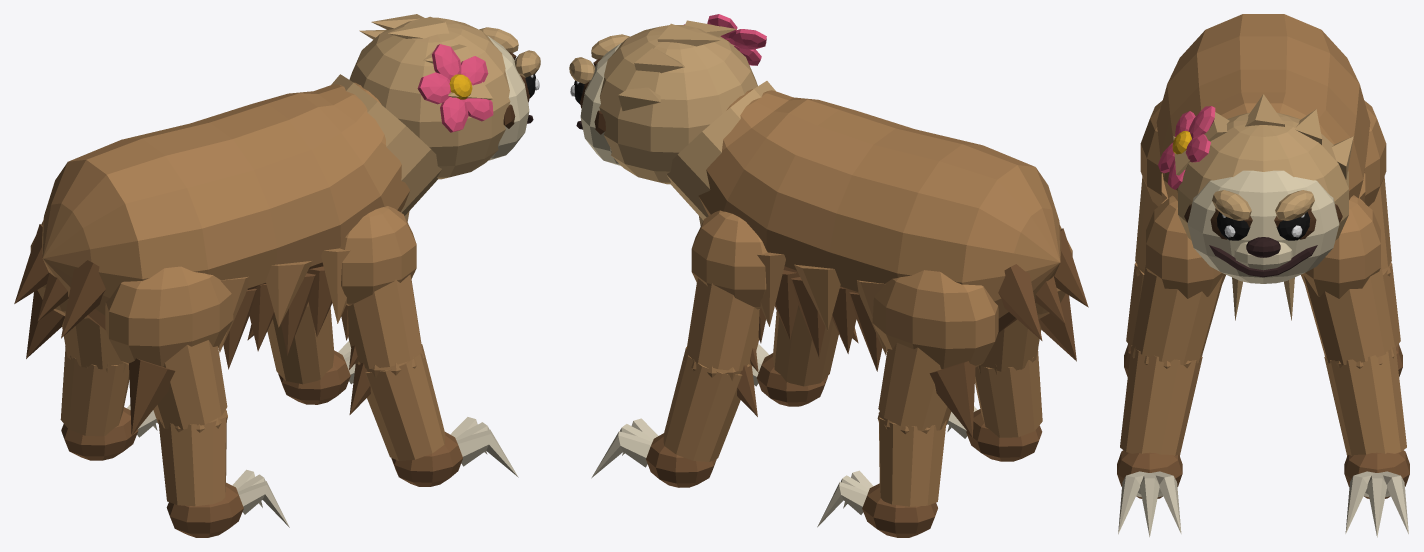
Rendered from sloth.glb.
The picture shows the model from 3 angles, left to right: view 1: azimuth 30°, elevation 25°; view 2: azimuth 150°, elevation 25°; view 3: azimuth 270°, elevation 25°; orthographic projection. The views are drawn at different scales.
Visible parts, largest first — view 1: body, leg_br, head, leg_fr, leg_bl, leg_fl; view 2: body, head, leg_bl, leg_fl, leg_br, leg_fr; view 3: head, leg_fl, leg_fr, body, leg_bl, leg_br.
Part boxes in pixels (x1,y1,x2,y2): body: (14,82,410,369); leg_br: (105,266,289,537); head: (331,14,540,215); leg_fr: (340,206,518,486); leg_bl: (26,221,158,460); leg_fl: (247,302,355,404); body: (698,89,1088,371); head: (569,14,775,220); leg_bl: (817,270,998,537); leg_fl: (591,210,767,487); leg_br: (946,225,1076,461); leg_fr: (752,305,858,406); head: (1158,94,1353,283); leg_fl: (1301,195,1409,537); leg_fr: (1117,195,1225,537); body: (1156,14,1370,320); leg_bl: (1364,100,1402,376); leg_br: (1124,100,1162,376).
Size of the model in its own units: 1.67 by 1.32 by 0.8502.
